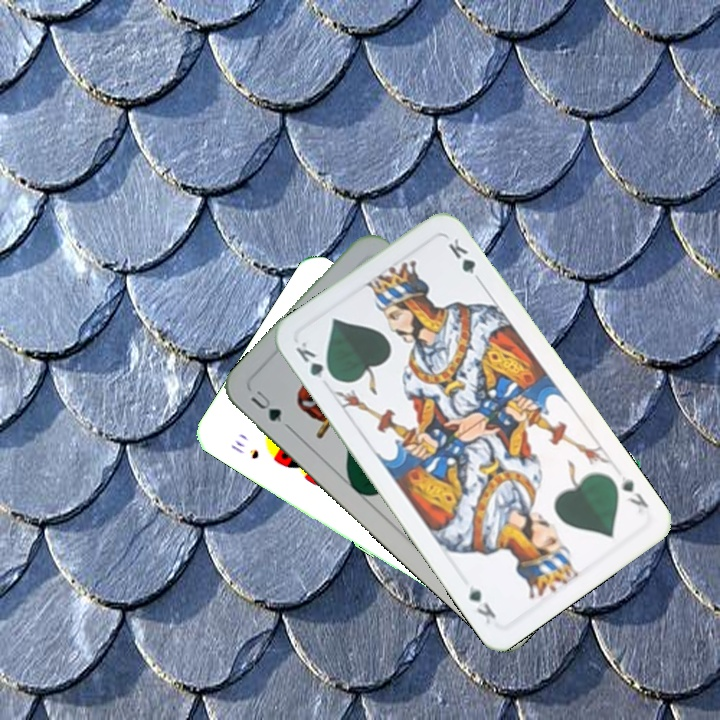GK: (291, 337, 338, 384), (616, 471, 652, 511)
GU: (246, 386, 285, 425)
S10: (226, 436, 262, 462)
